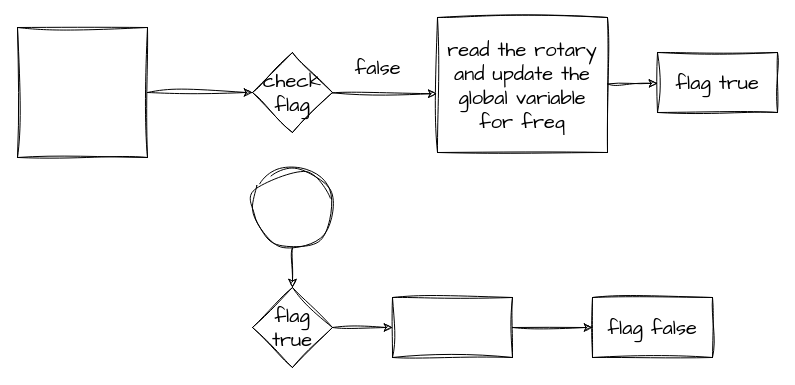
Image size: 795x385. Some labels were removed from this diagram. The shapes that lost their labels are listed below. From the top down, each one's centre as x and y in pixels, then its label:
At pixel 82 92: "interupt received for rotary".
At pixel 292 207: "main thread NAV".
At pixel 452 327: "update the value on lcd".
